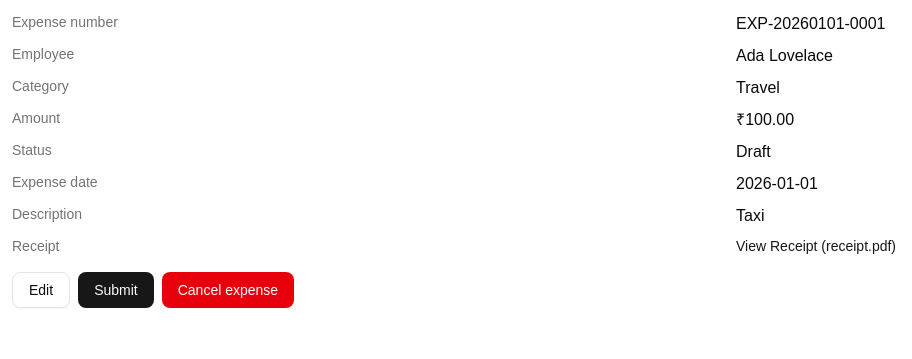
Test: ExpenseDetail › surfaces a backend rejection when submitting fails
Click the button "Submit": (116, 290) [78, 272, 154, 308]
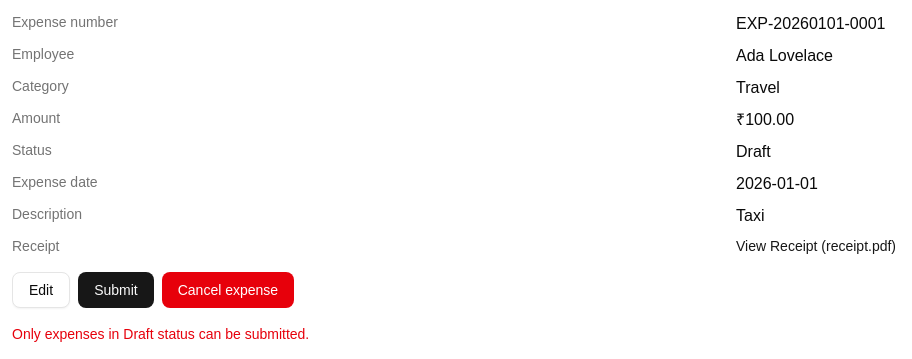
Result: the message reads "Only expenses in Draft status can be submitted." at [12, 326, 309, 342]
